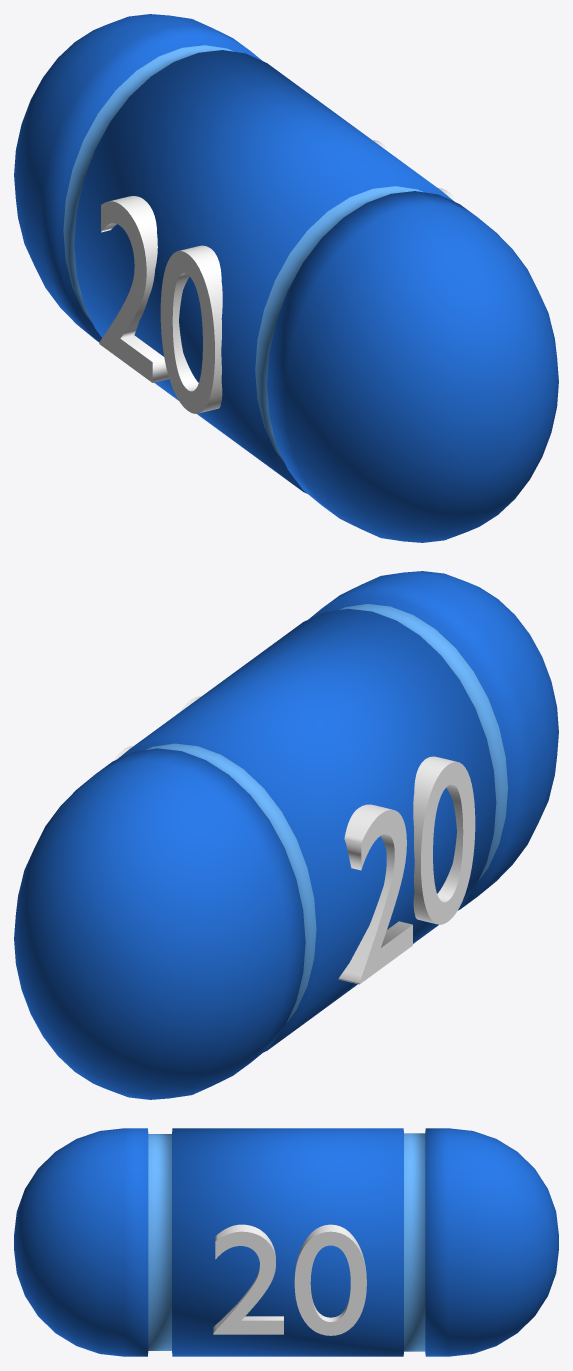
3 renders of one model, top to bottom at view 1: azimuth 30°, elevation 25°; view 2: azimuth 150°, elevation 25°; view 3: azimuth 270°, elevation 25°, orthographic. The views are drawn at different scales.
Visible parts, largest first — view 1: Cylinder, Text.001; view 2: Cylinder, Text.001; view 3: Cylinder, Text.
Part boxes in pixels (left/top/right/bottom): Cylinder: left=14, top=14, right=558, bottom=542; Text.001: left=99, top=196, right=222, bottom=413; Cylinder: left=14, top=571, right=558, bottom=1099; Text.001: left=338, top=756, right=475, bottom=984; Cylinder: left=14, top=1128, right=558, bottom=1356; Text: left=213, top=1224, right=366, bottom=1335.
Bounding box in the file's own units: 0.33 × 0.9042 × 0.3917.
